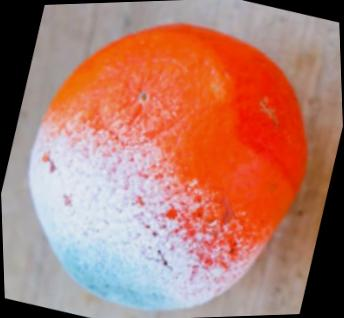Orange Rotten: (16, 17, 326, 318)
